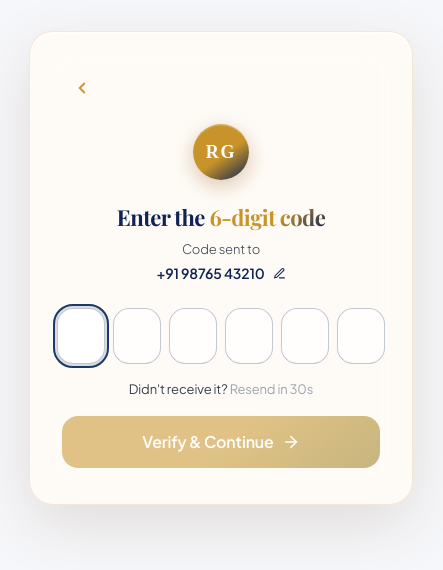
Test: VerifyOtpScreen › shows generic error for non-ApiError rejections
The width and height of the screenshot is (443, 570).
Type "1" into the field named "OTP digit 1".
click(81, 336); type("1")  # box [57, 308, 105, 364]
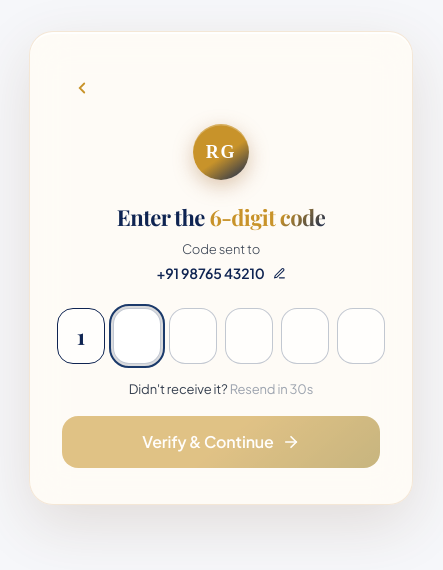
Type "1" into the field named "OTP digit 2".
click(137, 336); type("1")  # box [113, 308, 161, 364]
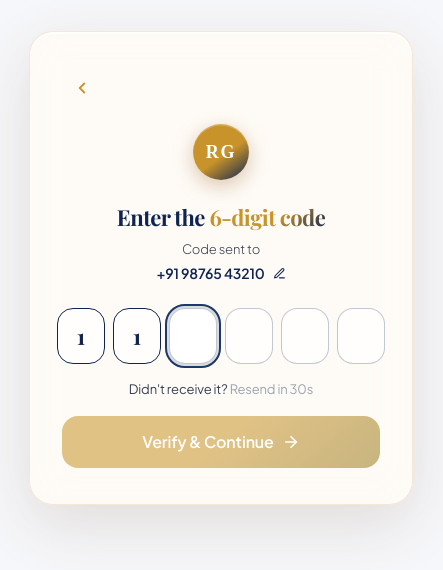
Type "1" into the field named "OTP digit 3".
click(193, 336); type("1")  # box [169, 308, 217, 364]
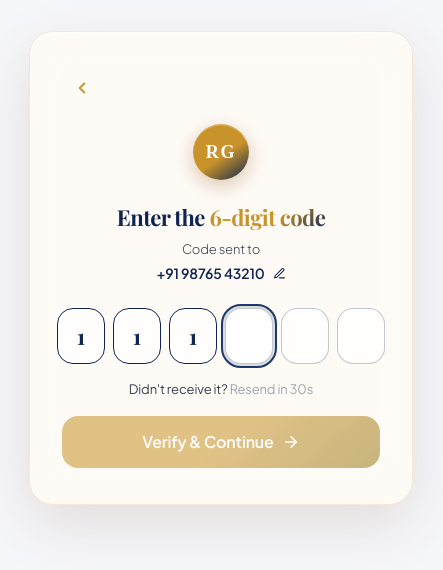
Type "1" into the field named "OTP digit 4".
click(249, 336); type("1")  # box [225, 308, 273, 364]
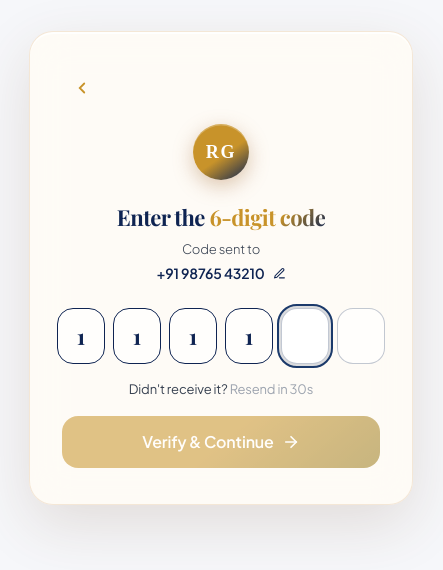
Type "1" into the field named "OTP digit 5".
click(305, 336); type("1")  # box [281, 308, 329, 364]
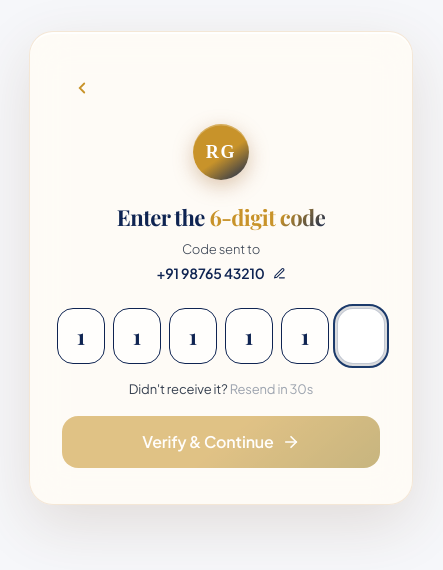
Type "1" into the field named "OTP digit 6".
click(361, 336); type("1")  # box [337, 308, 385, 364]
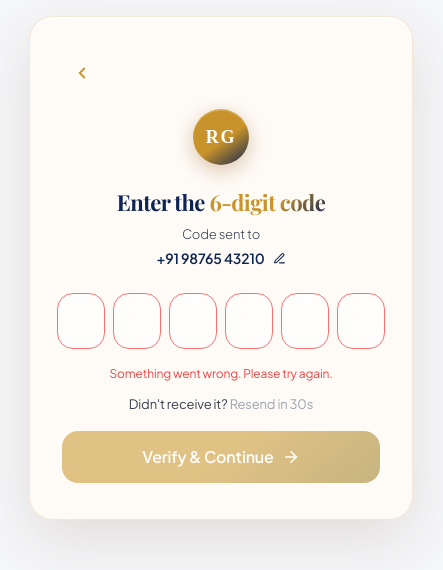
Now the message shows "Something went wrong", box [110, 366, 332, 381]
